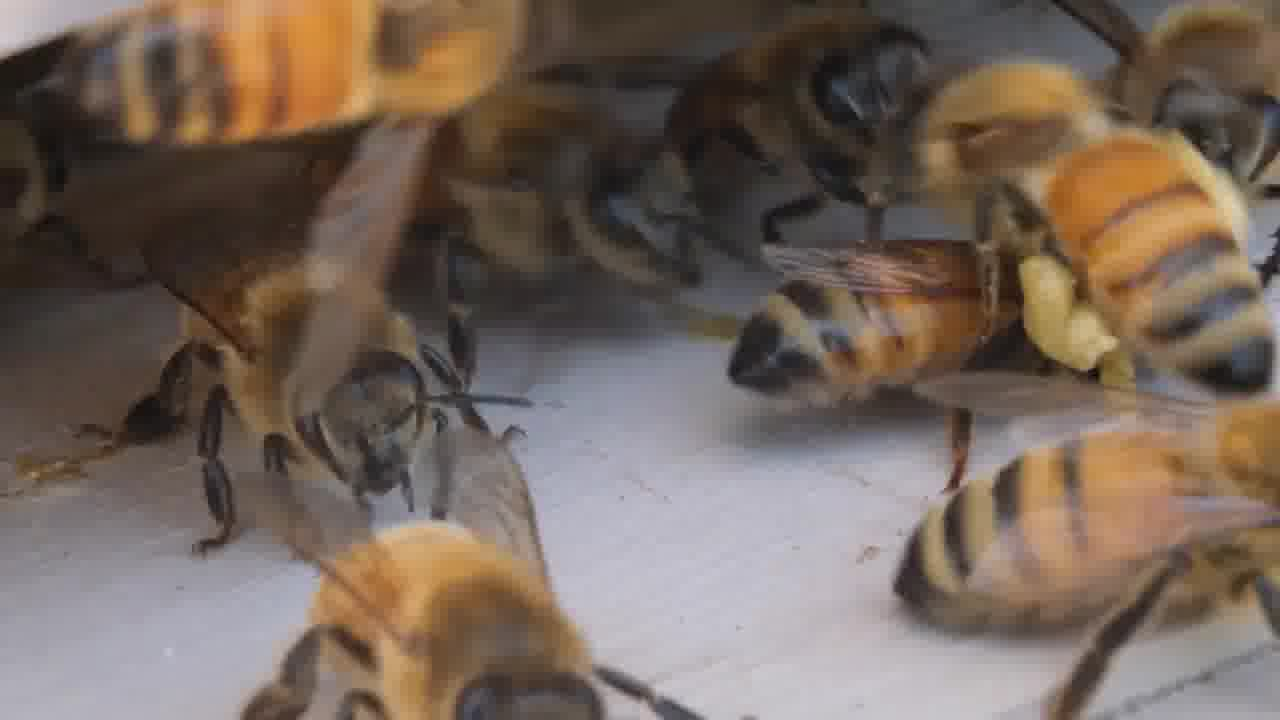pollen: (903, 52, 1280, 399)
